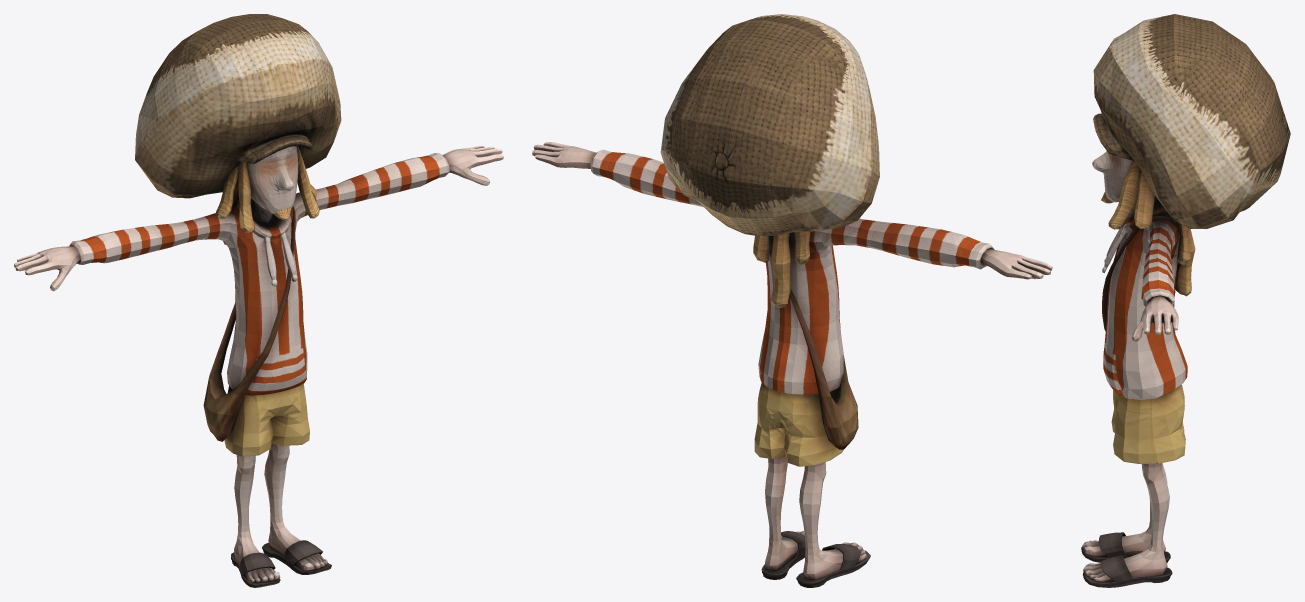
The model's file is kaya.obj.
The picture shows the model from 3 angles, left to right: view 1: azimuth 30°, elevation 25°; view 2: azimuth 150°, elevation 25°; view 3: azimuth 270°, elevation 25°; orthographic projection. The views are drawn at different scales.
Size of the model in its own units: 4.8 by 5 by 1.74.
1 material, 1 textured.
